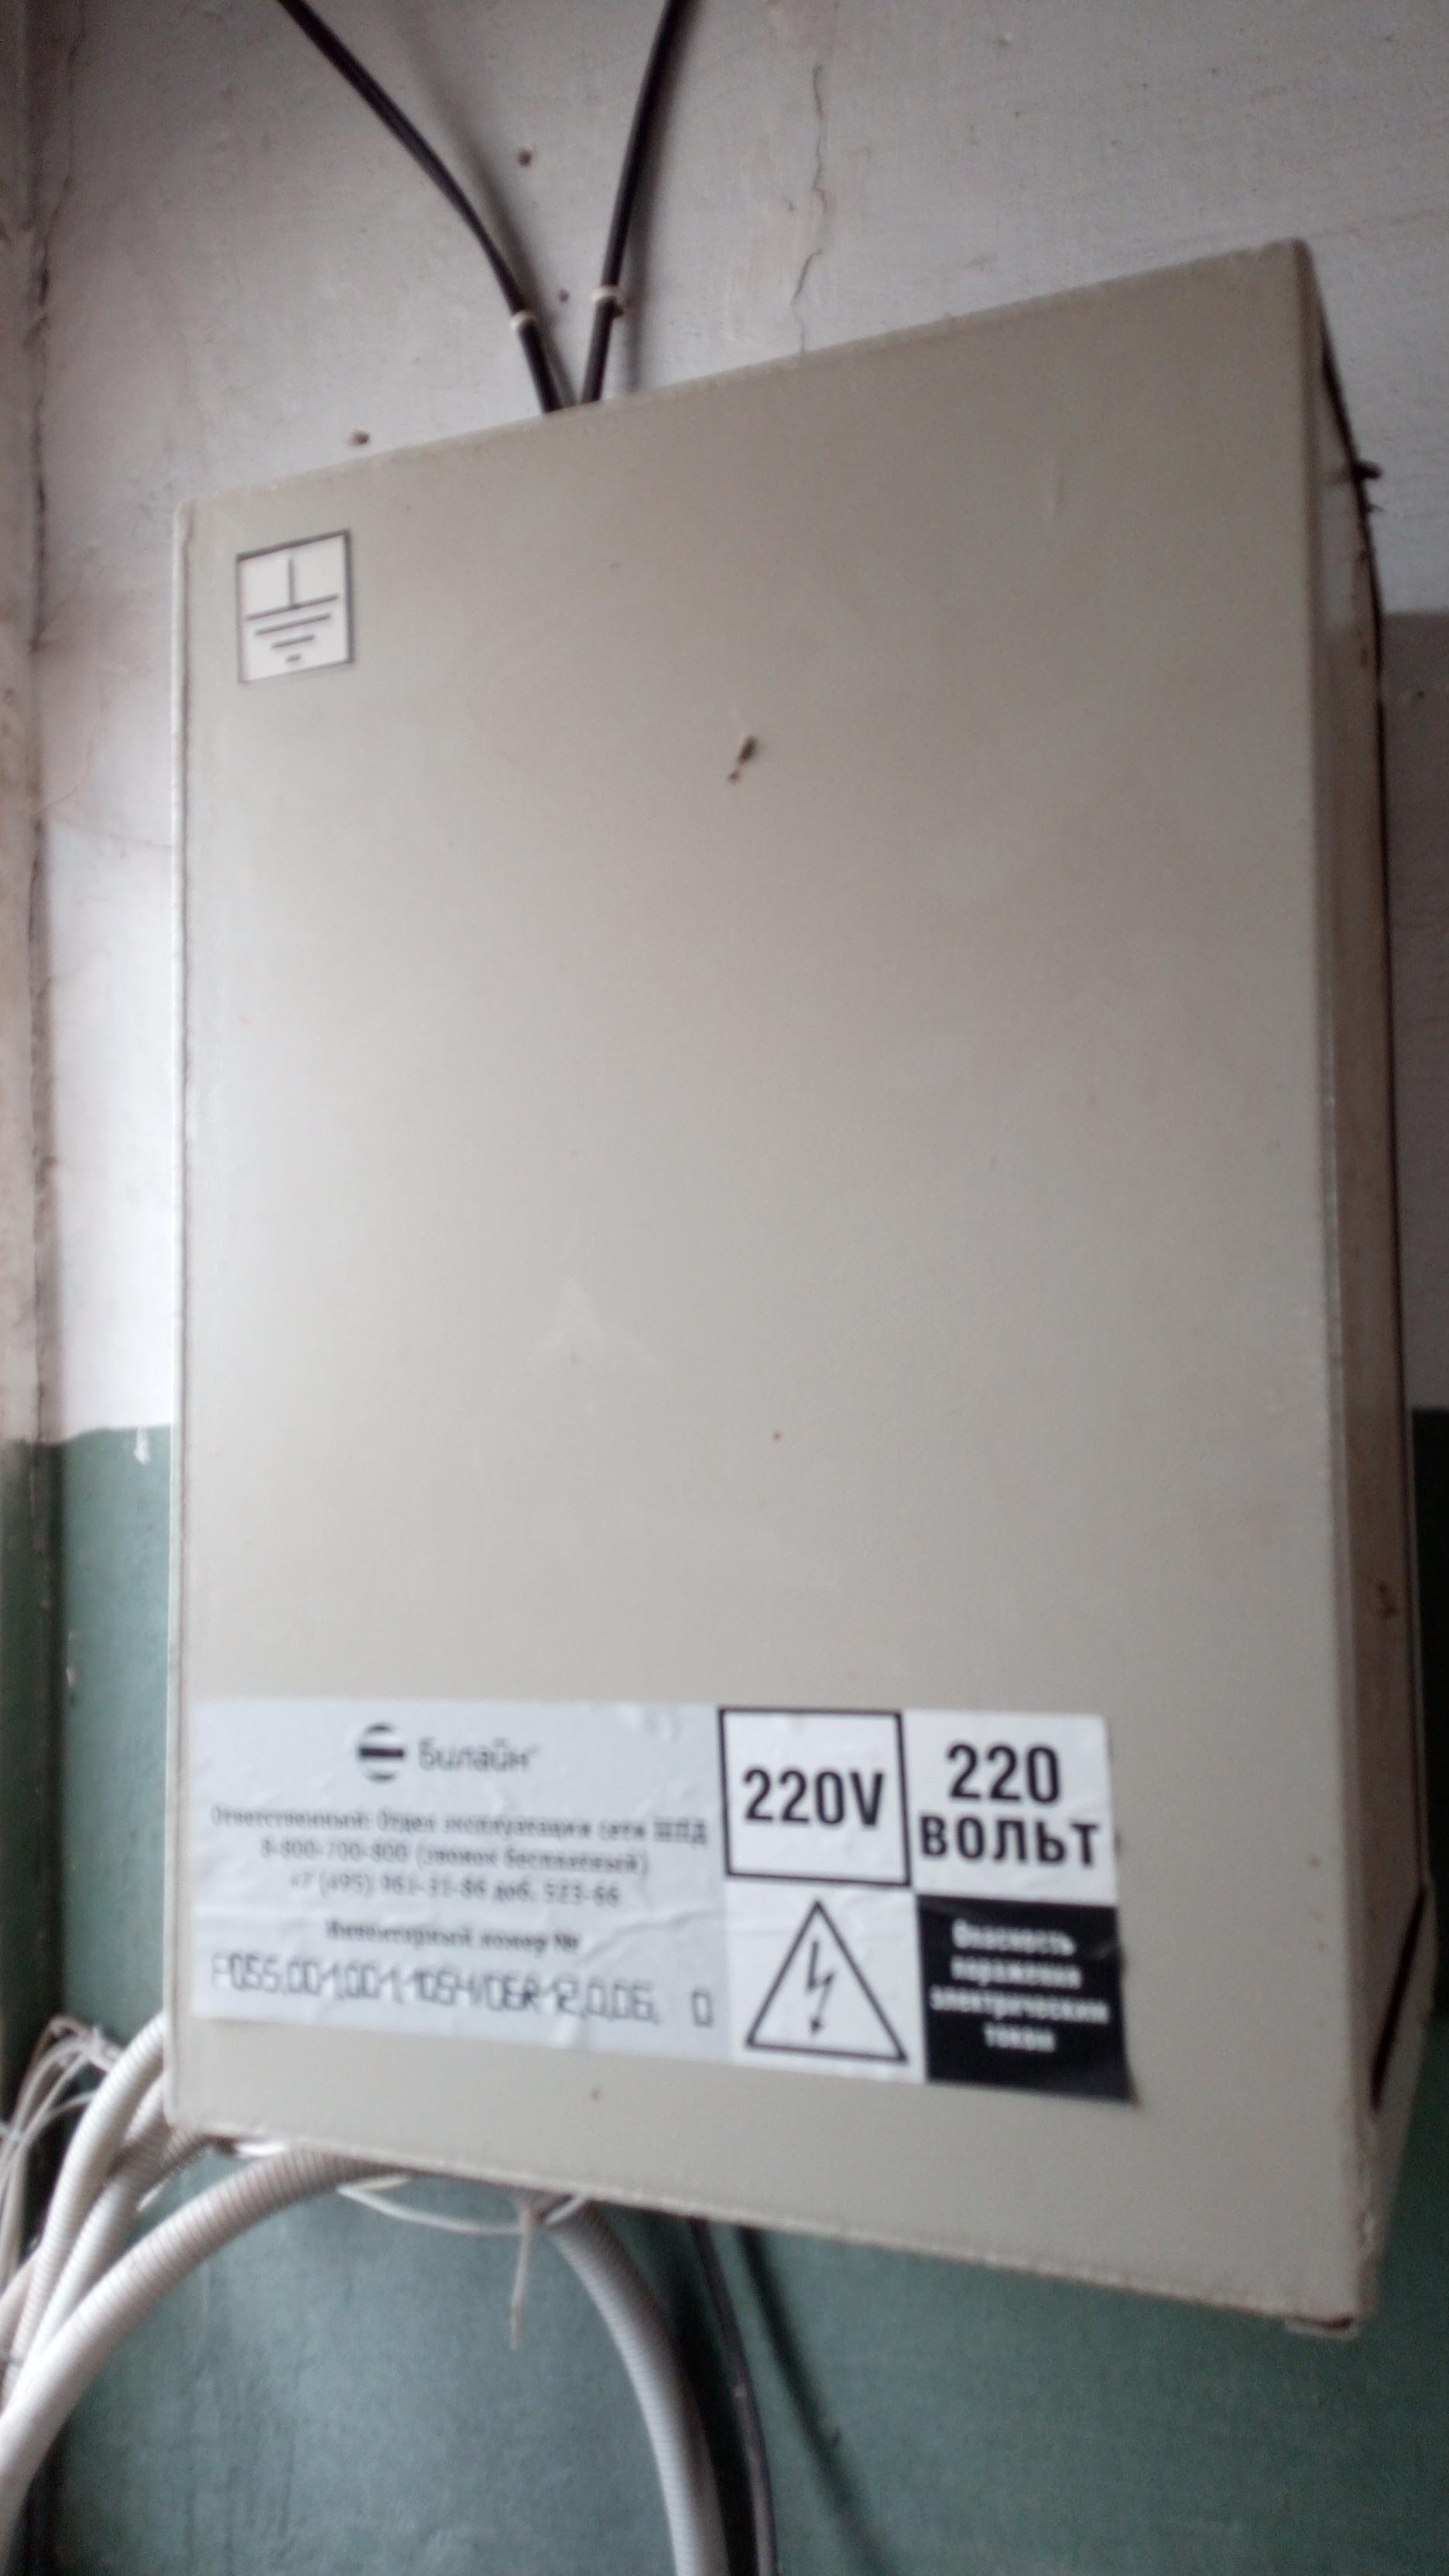sv-5: (149, 230, 1435, 2357)
